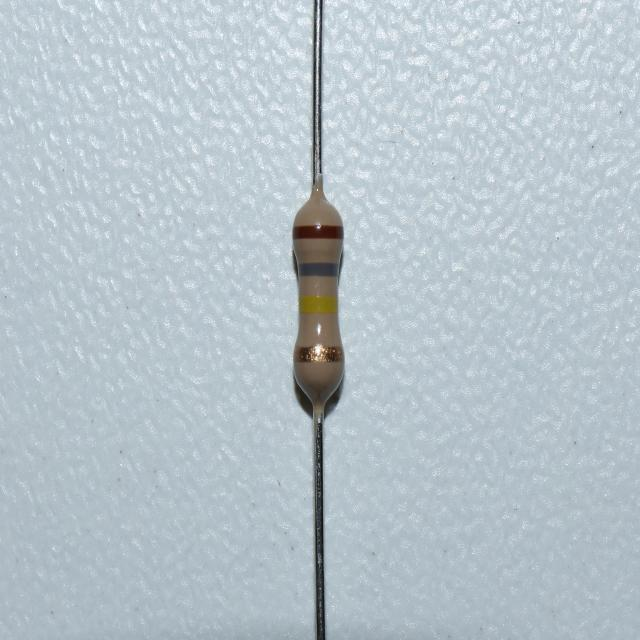resistor: (285, 203, 351, 397)
